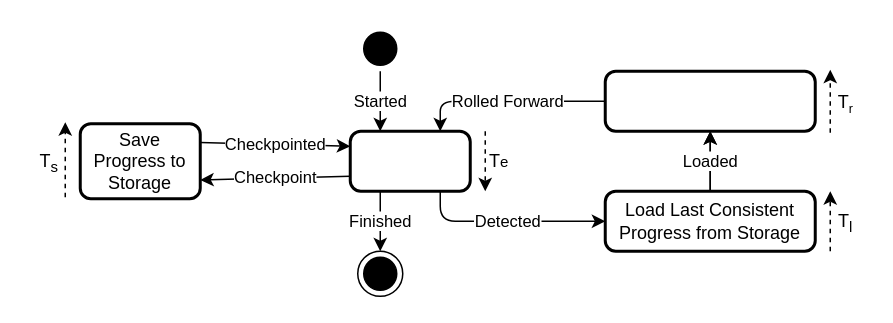
Image size: 893x323. Some labels were removed from this diagram. Each missing label, with the centre of its shape:
Execute: point 409,160
Rollforward to Correct State Before the Event: point 709,100
